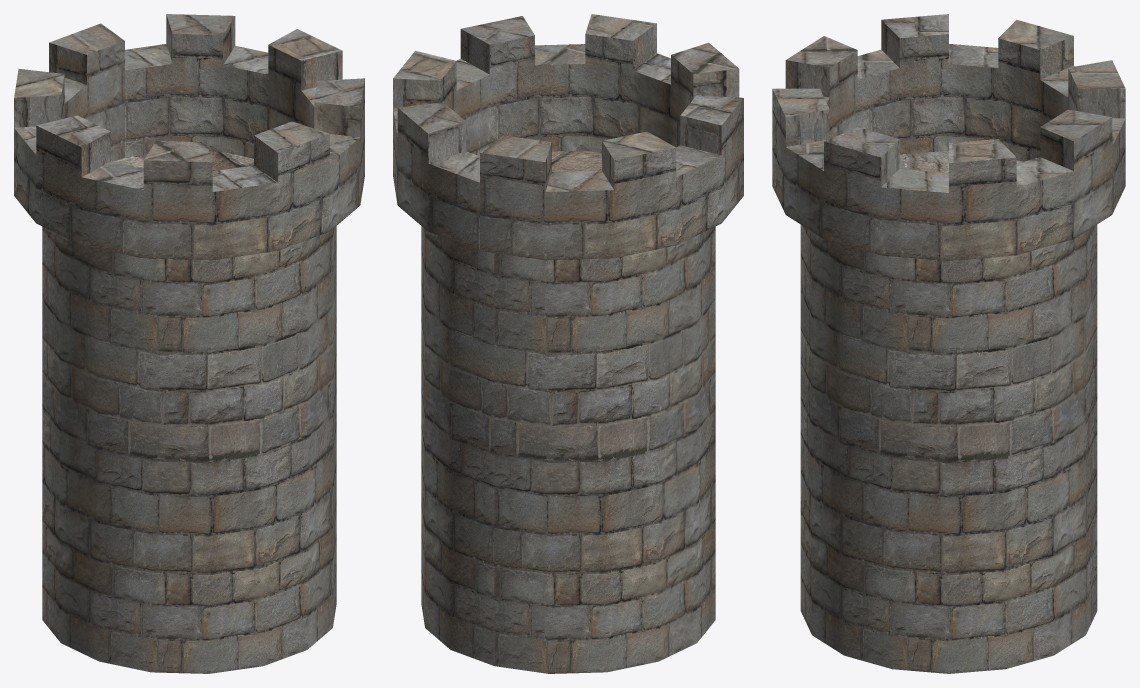
Rendered from Wall_T0.glb.
3 views of the same model, side by side, from view 1: azimuth 30°, elevation 25°; view 2: azimuth 150°, elevation 25°; view 3: azimuth 270°, elevation 25° (orthographic).
Parts seen in each view (by area): view 1: Wall_T0; view 2: Wall_T0; view 3: Wall_T0.
Part boxes in pixels (left/top/right/bottom): Wall_T0: left=14, top=14, right=364, bottom=673; Wall_T0: left=393, top=14, right=743, bottom=673; Wall_T0: left=772, top=14, right=1125, bottom=673.
Bounding box in the file's own units: 0.6379 × 1.04 × 0.6379.
Materials: 1 (1 with a texture image).
